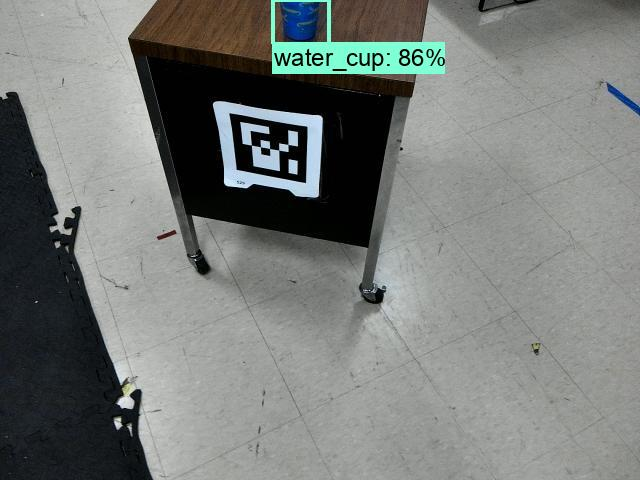water_cup: (278, 2, 326, 43)
